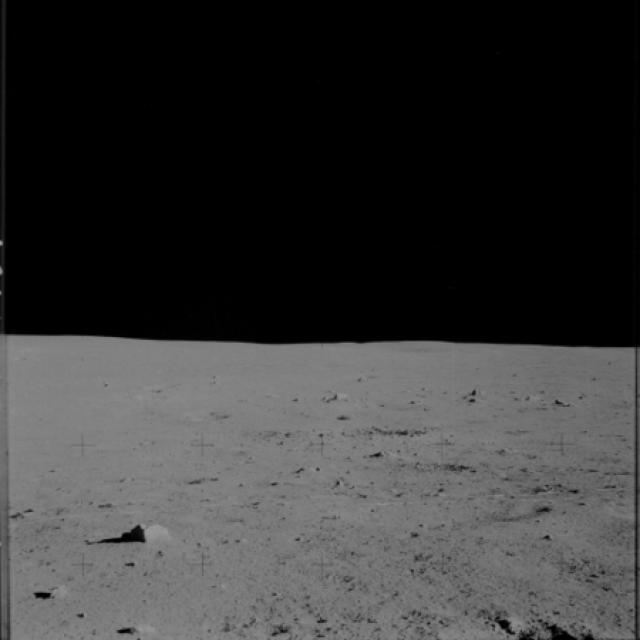crater: (317, 492, 566, 540), (176, 408, 233, 433)
rock: (116, 518, 182, 554), (30, 581, 76, 607), (116, 613, 156, 638), (455, 384, 491, 409), (324, 389, 358, 408)
